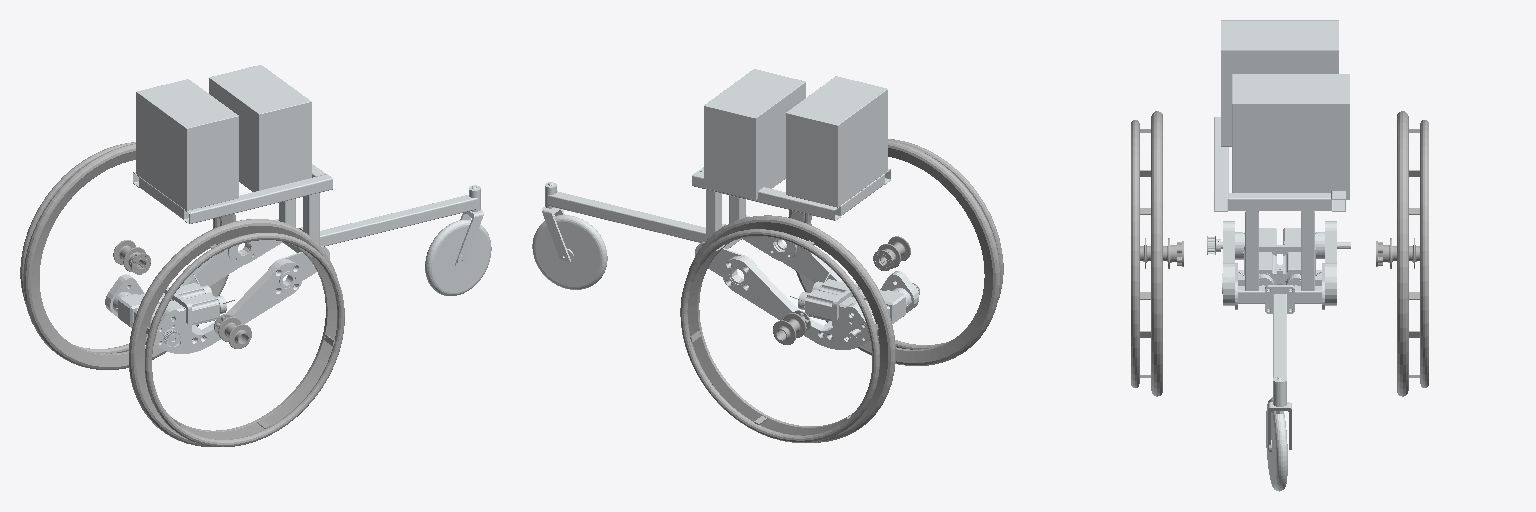
robot.urdf — Wheelchair_test:
<?xml version="1.0" encoding="utf-8"?>
<!-- This URDF was automatically created by SolidWorks to URDF Exporter! Originally created by [author] ([email redacted]) 
     Commit Version: 1.5.1-0-g916b5db  Build Version: 1.5.7152.31018
     For more information, please see http://wiki.ros.org/sw_urdf_exporter -->
<robot name="Wheelchair_test">

  <!-- Import all Gazebo-customization elements, including Gazebo colors -->
  <!-- <xacro:include filename="$(find wheelchair_description)/urdf/wheelchair.gazebo" /> -->
  
  <!--extra dummy link -->

  <link name="base_footprint"/>

  <joint name="base_joint" type="fixed">
    <parent link="base_footprint"/>
    <child link="base_link"/>
    <origin xyz="0.0 0.0 0.0" rpy="0 0 0"/>
  </joint>

  <link name="base_link">
    <inertial>
      <origin
        xyz="-0.222515731055045 0.00824844167707826 0.220278773868655"
        rpy="0 0 0" />
      <mass
        value="25.5218455226117" />
      <inertia
        ixx="0.187867970908808"
        ixy="-1.16247288141221E-09"
        ixz="-0.0129329721363066"
        iyy="0.1870415689303"
        iyz="3.20069324721788E-09"
        izz="0.20373752352134" />
    </inertial>

    <visual>
      <origin
        xyz="0 0 0"
        rpy="0 0 0" />
      <geometry>
        <mesh
          filename="package://wheelchair_description/meshes/Frame.STL" />
      </geometry>
      <material
        name="">
        <color
          rgba="0.898039215686275 0.917647058823529 0.929411764705882 1" />
      </material>
    </visual>

    <collision>
      <origin
        xyz="0 0 0"
        rpy="0 0 0" />
      <geometry>
        <mesh
          filename="package://wheelchair_description/meshes/Frame.STL" />
      </geometry>
    </collision>
  </link>

  <gazebo reference="base_link">
    <turnGravityOff>false</turnGravityOff>
  </gazebo>

  <link name="Caster">
    <inertial>
      <origin
        xyz="-0.018675 -0.0023779 -0.066791"
        rpy="0 0 0" />
      <mass
        value="0.18692" />
      <inertia
        ixx="0.00031039"
        ixy="1.0543E-06"
        ixz="-0.00010185"
        iyy="0.00030225"
        iyz="-1.2968E-05"
        izz="0.00012277" />
    </inertial>

    <visual>
      <origin
        xyz="0 0 0"
        rpy="0 0 0" />
      <geometry>
        <mesh
          filename="package://wheelchair_description/meshes/Caster.STL" />
      </geometry>
      <material
        name="">
        <color
          rgba="0.89804 0.91765 0.92941 1" />
      </material>
    </visual>

    <collision>
      <origin
        xyz="0 0 0"
        rpy="0 0 0" />
      <geometry>
        <mesh
          filename="package://wheelchair_description/meshes/Caster.STL" />
      </geometry>
    </collision>
  </link>

  <gazebo reference="Caster">
    <material>Gazebo/Black</material>
    <turnGravityOff>false</turnGravityOff>
  </gazebo>

  <joint name="Caster_cont" type="continuous">
    <origin
      xyz="0.5078 0 0.00635"
      rpy="0 0 0" />
    <parent
      link="base_link" />
    <child
      link="Caster" />
    <axis
      xyz="0 0 1" />
    <limit
      effort="0"
      velocity="20" />
  </joint>

  <gazebo reference ="Caster_cont">
    <mu1 value="200.0"/>
    <mu2 value="100.0"/>
    <kp value="10000000.0"/>
    <kd value= "1.0"/>
</gazebo>

  <link name="WheelF">
    <inertial>
      <origin
        xyz="0 0 -2.7756E-17"
        rpy="0 0 0" />
      <mass
        value="2.1315" />
      <inertia
        ixx="0.0052886"
        ixy="-3.2526E-19"
        ixz="-1.09E-21"
        iyy="0.010349"
        iyz="-3.0141E-20"
        izz="0.0052886" />
    </inertial>

    <visual>
      <origin
        xyz="0 0 0"
        rpy="0 0 0" />
      <geometry>
        <mesh
          filename="package://wheelchair_description/meshes/WheelF.STL" />
      </geometry>
      <material
        name="">
        <color
          rgba="0.89804 0.91765 0.92941 1" />
      </material>
    </visual>

    <collision>
      <origin
        xyz="0 0 0"
        rpy="0 0 0" />
      <geometry>
        <mesh
          filename="package://wheelchair_description/meshes/WheelF.STL" />
      </geometry>
    </collision>
  </link>

  <gazebo reference="WheelF">
    <turnGravityOff>false</turnGravityOff>
  </gazebo>

  <joint name="WheelF_cont"  type="continuous">
    <origin
      xyz="-0.0518843000619276 -0.00660668610975347 -0.1478026"
      rpy="0 0 0.126653383400985" />
    <parent
      link="Caster" />
    <child
      link="WheelF" />
    <axis
      xyz="0 -1 0" />
    <limit
      effort="0"
      velocity="20" />
  </joint>

  <gazebo reference ="WheelF_cont">
    <mu1 value="200.0"/>
    <mu2 value="100.0"/>
    <kp value="10000000.0"/>
    <kd value= "1.0"/>
  </gazebo>

  <link name="SwingR">
    <inertial>
      <origin
        xyz="-0.14883 0.054597 -0.033745"
        rpy="0 0 0" />
      <mass
        value="4.8363" />
      <inertia
        ixx="0.0094524"
        ixy="-0.00067415"
        ixz="-0.0056619"
        iyy="0.022613"
        iyz="3.9175E-05"
        izz="0.018459" />
    </inertial>

    <visual>
      <origin
        xyz="0 0 0"
        rpy="0 0 0" />
      <geometry>
        <mesh
          filename="package://wheelchair_description/meshes/SwingR.STL" />
      </geometry>
      <material
        name="">
        <color
          rgba="0.75294 0.75294 0.75294 1" />
      </material>
    </visual>

    <collision>
      <origin
        xyz="0 0 0"
        rpy="0 0 0" />
      <geometry>
        <mesh
          filename="package://wheelchair_description/meshes/SwingR.STL" />
      </geometry>
    </collision>
  </link>

  <gazebo reference="SwingR">
    <turnGravityOff>false</turnGravityOff>
  </gazebo>

  <joint  name="SwingR_rev" type="revolute">
    <origin
      xyz="-0.106 -0.2118548 -0.0238887"
      rpy="0 0 0" />
    <parent
      link="base_link" />
    <child
      link="SwingR" />
    <axis
      xyz="0 1 0" />
    <limit
      lower="0"
      upper="0.67265"
      effort="0"
      velocity="2" />
    <dynamics damping="0.7" friction="0.0"/>
  </joint>

  <gazebo reference ="SwingR_rev">
    <mu1 value="200.0"/>
    <mu2 value="100.0"/>
    <kp value="10000000.0"/>
    <kd value= "1.0"/>
  </gazebo>

  <link name="WheelR">
    <inertial>
      <origin
        xyz="1.8579E-05 -0.0076777 -2.2937E-05"
        rpy="0 0 0" />
      <mass
        value="2.1893" />
      <inertia
        ixx="0.07871"
        ixy="3.2611E-07"
        ixz="-4.0455E-07"
        iyy="0.15702"
        iyz="-4.0261E-07"
        izz="0.07871" />
    </inertial>

    <visual>
      <origin
        xyz="0 0 0"
        rpy="0 0 0" />
      <geometry>
        <mesh
          filename="package://wheelchair_description/meshes/WheelR.STL" />
      </geometry>
      <material
        name="">
        <color
          rgba="0.75294 0.75294 0.75294 1" />
      </material>
    </visual>

    <collision>
      <origin
        xyz="0 0 0"
        rpy="0 0 0" />
      <geometry>
        <mesh
          filename="package://wheelchair_description/meshes/WheelR.STL" />
      </geometry>
    </collision>
  </link>

  <gazebo reference="WheelR">
    <turnGravityOff>false</turnGravityOff>
  </gazebo>

  <joint name="WheelR_cont" type="continuous">
    <origin
      xyz="-0.232195893808092 -0.0517862 -0.0361948462997351"
      rpy="0 0 0" />
    <parent
      link="SwingR" />
    <child
      link="WheelR" />
    <axis
      xyz="0 1 0" />
    <limit
      effort="0"
      velocity="16.25" />
  </joint>

  <gazebo reference ="WheelR_cont">
    <mu1 value="200.0"/>
    <mu2 value="100.0"/>
    <kp value="10000000.0"/>
    <kd value= "1.0"/>
  </gazebo>

  <link name="SwingL">
    <inertial>
      <origin
        xyz="-0.14883 -0.054597 -0.033745"
        rpy="0 0 0" />
      <mass
        value="4.8363" />
      <inertia
        ixx="0.0094524"
        ixy="0.00067415"
        ixz="-0.0056619"
        iyy="0.022613"
        iyz="-3.9175E-05"
        izz="0.018459" />
    </inertial>

    <visual>
      <origin
        xyz="0 0 0"
        rpy="0 0 0" />
      <geometry>
        <mesh
          filename="package://wheelchair_description/meshes/SwingL.STL" />
      </geometry>
      <material
        name="">
        <color
          rgba="0.75294 0.75294 0.75294 1" />
      </material>
    </visual>

    <collision>
      <origin
        xyz="0 0 0"
        rpy="0 0 0" />
      <geometry>
        <mesh
          filename="package://wheelchair_description/meshes/SwingL.STL" />
      </geometry>
    </collision>
  </link>

  <gazebo reference="SwingL">
    <turnGravityOff>false</turnGravityOff>
  </gazebo>

  <joint name="SwingL_rev" type="revolute">
    <origin
      xyz="-0.106 0.20947 -0.023889"
      rpy="0 0 0" />
    <parent
      link="base_link" />
    <child
      link="SwingL" />
    <axis
      xyz="0 1 0" />
    <limit
      lower="0"
      upper="0.67265"
      effort="0"
      velocity="2" />
    <dynamics damping="0.7" friction="0.0"/>
  </joint>

  <gazebo reference ="SwingL_rev">
    <mu1 value="200.0"/>
    <mu2 value="100.0"/>
    <kp value="10000000.0"/>
    <kd value= "1.0"/>
  </gazebo>

  <link name="WheelL">
    <inertial>
      <origin
        xyz="1.8579E-05 0.0076777 -2.2937E-05"
        rpy="0 0 0" />
      <mass
        value="2.1893" />
      <inertia
        ixx="0.07871"
        ixy="-3.2611E-07"
        ixz="-4.0455E-07"
        iyy="0.15702"
        iyz="4.0261E-07"
        izz="0.07871" />
    </inertial>

    <visual>
      <origin
        xyz="0 0 0"
        rpy="0 0 0" />
      <geometry>
        <mesh
          filename="package://wheelchair_description/meshes/WheelL.STL" />
      </geometry>
      <material
        name="">
        <color
          rgba="0.75294 0.75294 0.75294 1" />
      </material>
    </visual>

    <collision>
      <origin
        xyz="0 0 0"
        rpy="0 0 0" />
      <geometry>
        <mesh
          filename="package://wheelchair_description/meshes/WheelL.STL" />
      </geometry>
    </collision>
  </link>

  <gazebo reference="WheelL">
    <turnGravityOff>false</turnGravityOff>
  </gazebo>

  <joint name="WheelL_cont" type="continuous">
    <origin
      xyz="-0.2322 0.054167 -0.036195"
      rpy="0 0 0" />
    <parent
      link="SwingL" />
    <child
      link="WheelL" />
    <axis
      xyz="0 1 0" />
    <limit
      effort="0"
      velocity="16.25" />
  </joint>

  <gazebo reference ="WheelL_cont">
    <mu1 value="200.0"/>
    <mu2 value="100.0"/>
    <kp value="10000000.0"/>
    <kd value= "1.0"/>
  </gazebo>

  <!-- add transmission to swing arm joints -->
  <transmission name="SwingL_transmission">
    <type>transmission_interface/SimpleTransmission</type>
    <actuator name="SwingL_motor">
      <hardwareInterface>PositionJointInterface</hardwareInterface>
      <mechanicalReduction>1</mechanicalReduction>
    </actuator>
    <joint name="SwingL_rev">
      <hardwareInterface>hardware_interface/EffortJointInterface</hardwareInterface>
    </joint>
  </transmission>  

  <transmission name="SwingR_transmission">
    <type>transmission_interface/SimpleTransmission</type>
    <actuator name="SwingR_motor">
      <hardwareInterface>PositionJointInterface</hardwareInterface>
      <mechanicalReduction>1</mechanicalReduction>
    </actuator>
    <joint name="SwingR_rev">
      <hardwareInterface>hardware_interface/EffortJointInterface</hardwareInterface>
    </joint>
  </transmission> 
  <!-- add transmission to rear wheels -->
  <transmission name="WheelL_transmission">
    <type>transmission_interface/SimpleTransmission</type>
    <actuator name="WheelL_motor">
      <hardwareInterface>EffortJointInterface</hardwareInterface>
      <mechanicalReduction>1</mechanicalReduction>
    </actuator>
    <joint name="WheelL_cont">
      <hardwareInterface>hardware_interface/VelocityJointInterface</hardwareInterface>
    </joint>
  </transmission>  

  <transmission name="WheelR_transmission">
    <type>transmission_interface/SimpleTransmission</type>
    <actuator name="WheelR_motor">
      <hardwareInterface>EffortJointInterface</hardwareInterface>
      <mechanicalReduction>1</mechanicalReduction>
    </actuator>
    <joint name="WheelR_cont">
      <hardwareInterface>hardware_interface/VelocityJointInterface</hardwareInterface>
    </joint>
  </transmission> 

  <gazebo>
    <plugin name="gazebo_ros_control" filename= "libgazebo_ros_control.so">
     <robotNamespace>/</robotNamespace>
    </plugin>
  </gazebo>

  <gazebo>
    <plugin name="joint_state_publisher"
    filename="libgazebo_ros_joint_state_publisher.so">
    <jointName>Caster_cont, WheelF_cont</jointName>
    </plugin>
  </gazebo>
  
</robot>

--- What the picture shows (computed from the rendered views, not written in the file) ---
3 views of the same robot in one strip: view 1: azimuth 30°, elevation 25°; view 2: azimuth 150°, elevation 25°; view 3: azimuth 270°, elevation 25° (orthographic).
Model Wheelchair_test with 8 links and 7 joints (2 revolute, 4 continuous, 1 fixed), rooted at base_footprint, posed all joints at 0.
Links seen in each view (by area): view 1: base_link, WheelR, WheelL, WheelF, Caster; view 2: base_link, WheelL, WheelR, WheelF, Caster; view 3: base_link, WheelR, WheelL, WheelF.
Link boxes in pixels (left/top/right/bottom): base_link: left=105, top=65, right=480, bottom=353; WheelR: left=129, top=219, right=344, bottom=446; WheelL: left=20, top=142, right=235, bottom=369; WheelF: left=425, top=220, right=491, bottom=295; Caster: left=455, top=185, right=483, bottom=265; base_link: left=545, top=69, right=919, bottom=349; WheelL: left=680, top=215, right=895, bottom=442; WheelR: left=788, top=139, right=1003, bottom=365; WheelF: left=532, top=215, right=607, bottom=289; Caster: left=542, top=182, right=570, bottom=261; base_link: left=1207, top=20, right=1350, bottom=405; WheelR: left=1131, top=111, right=1183, bottom=396; WheelL: left=1376, top=111, right=1428, bottom=396; WheelF: left=1266, top=397, right=1287, bottom=491.
Bounding box of the posed robot: 1.2 × 0.6411 × 0.8317 m (x, y, z).
Meshes: 7 distinct files referenced, 5 mesh visuals loaded (5 binary STL); not drawn: 2 (reference not matched to a file when rendering).
